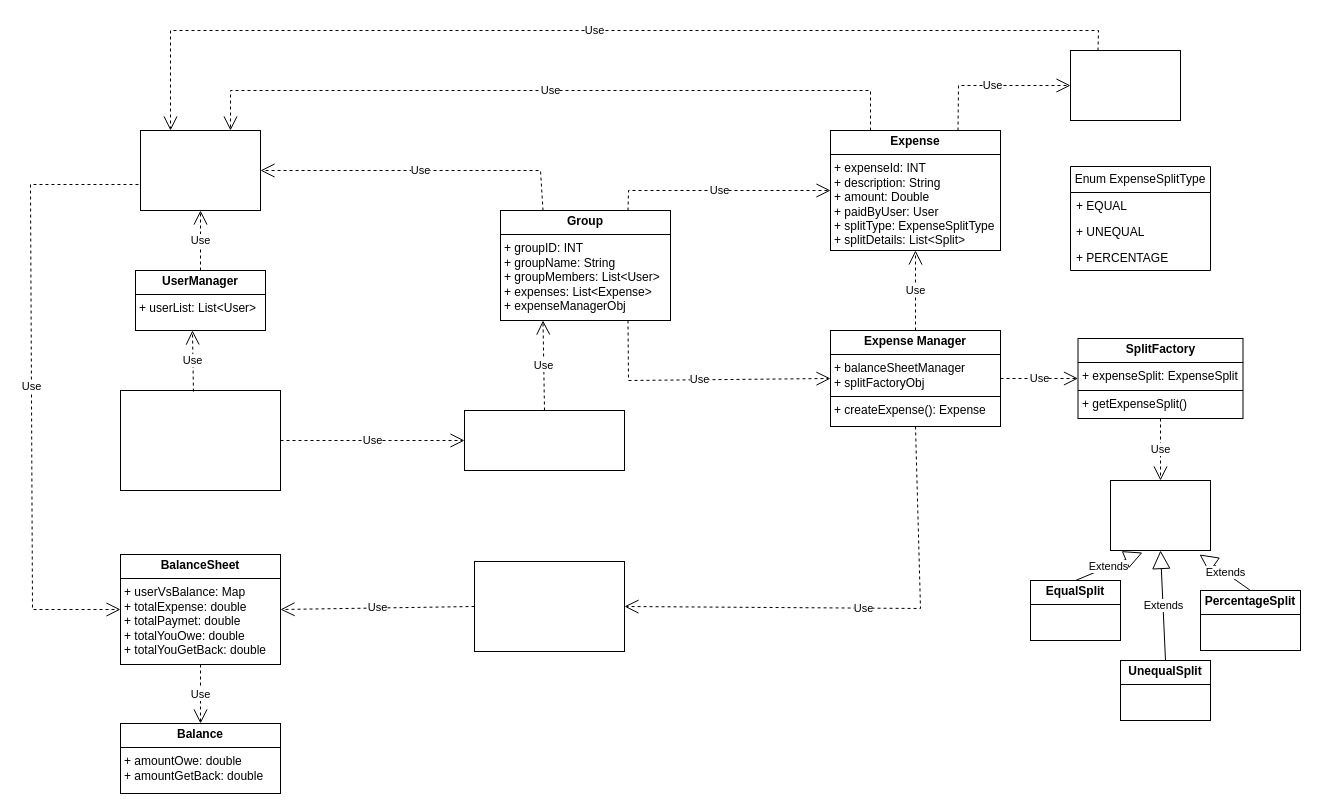
The diagram is 1318 pixels wide and 811 high, and some of its shapes have lost their labels. Here are the shapes that lost their labels. From the top down, the centre of each, then its label:
At (1125,85): "Split + user: User + amount: Double".
At (200,170): "User + userID: INT + userName: String + balanceSheetObj".
At (200,440): "Splitwise + userManagerObj + groupManagerObj + method(): Type".
At (544,440): "GroupManager + groupList: List<Group>".
At (1160,515): "<<Interface>> ExpenseSplit + validateSplit();".
At (549,606): "BalanceSheetManager + balanceSheetObj + updateBalanceSheet()".
